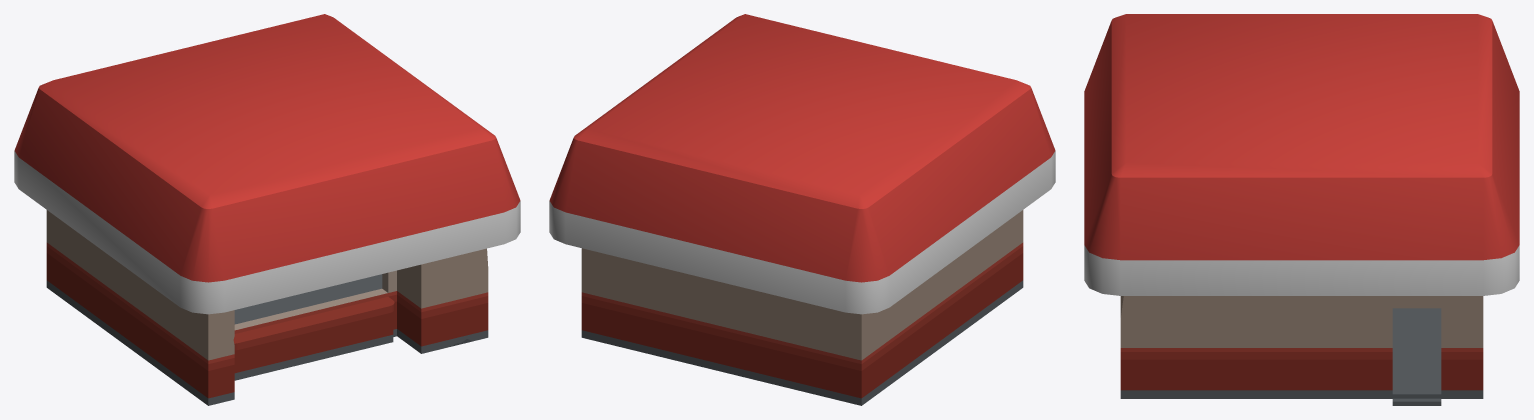
Rendered from SM_Buildings_Commercial_04.fbx.
3 views of the same model, side by side, from view 1: azimuth 30°, elevation 25°; view 2: azimuth 150°, elevation 25°; view 3: azimuth 270°, elevation 25° (orthographic). The views are drawn at different scales.
Visible parts, largest first — view 1: SM_Buildings_Commercial_04; view 2: SM_Buildings_Commercial_04; view 3: SM_Buildings_Commercial_04.
Part boxes in pixels (<box>): SM_Buildings_Commercial_04: <box>14,14,520,405</box>; SM_Buildings_Commercial_04: <box>549,14,1055,405</box>; SM_Buildings_Commercial_04: <box>1084,14,1519,405</box>.
Bounding box in the file's own units: 9.6 × 5.69 × 9.6.
